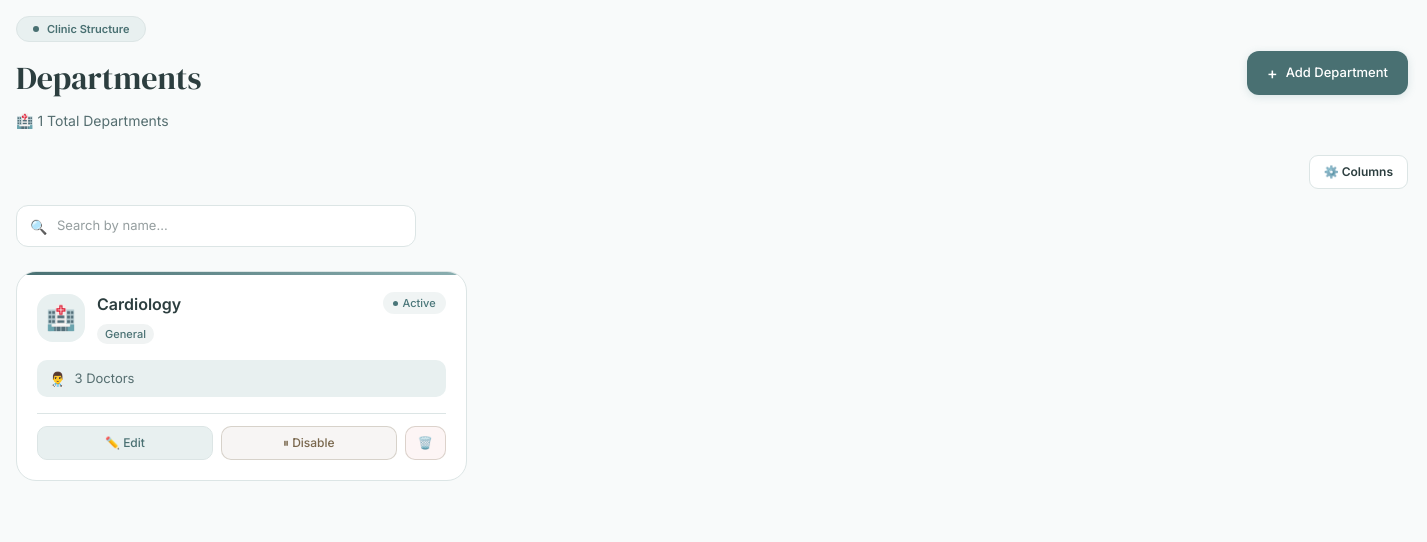
Test: Departments › deletes a department after confirmation
Expected: the text "Cardiology" is shown, [97,292,181,316]
Step 1. Click the button "🗑️" → (425, 443), box [405,426,446,460]
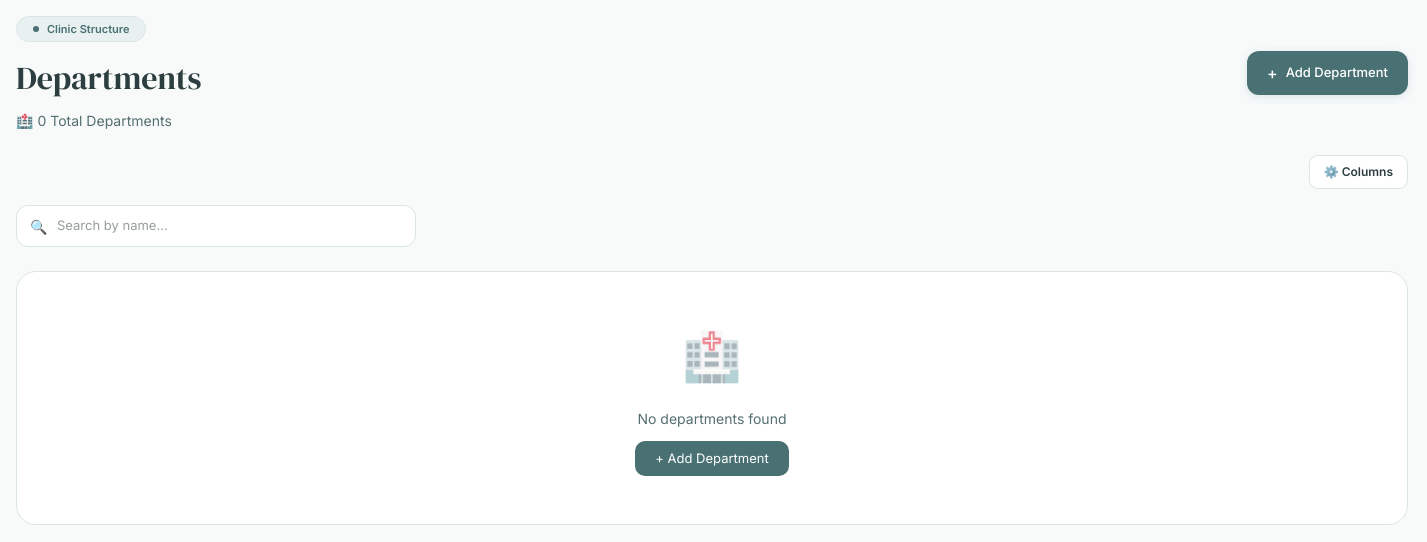
Result: the text "Cardiology" is gone
